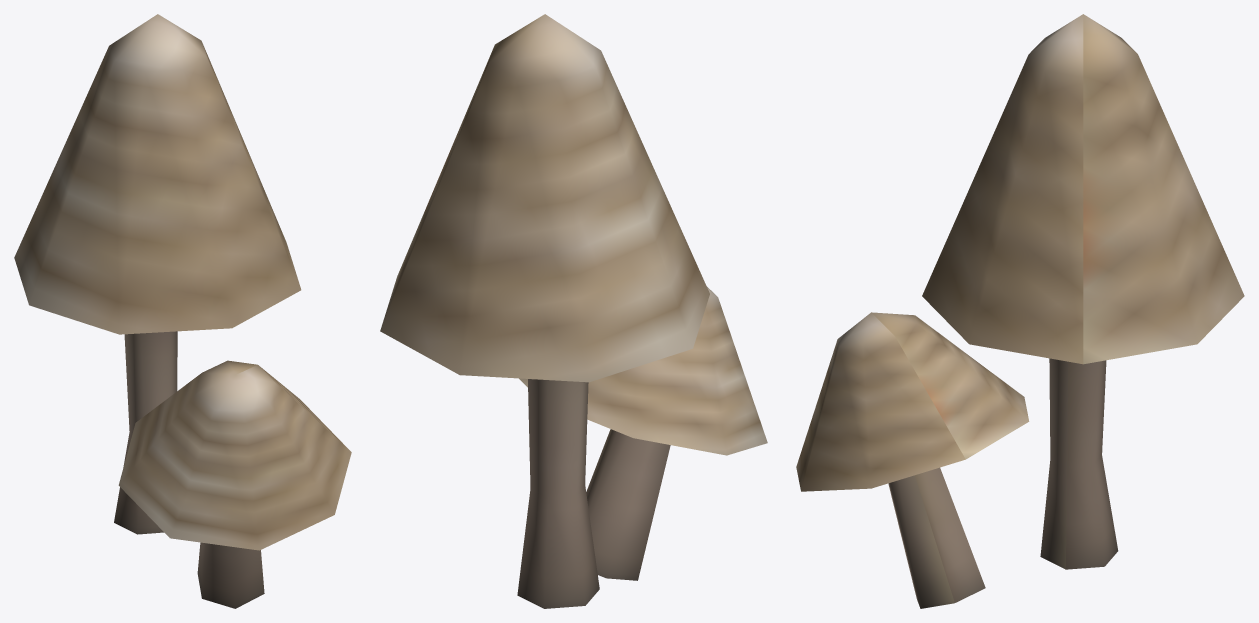
File: Mushroom1.fbx
3 views of the same model, side by side, from view 1: azimuth 30°, elevation 25°; view 2: azimuth 150°, elevation 25°; view 3: azimuth 270°, elevation 25° (orthographic). The views are drawn at different scales.
Parts seen in each view (by area): view 1: Mushroom1; view 2: Mushroom1; view 3: Mushroom1.
Part boxes in pixels (bbox=[...]): Mushroom1: bbox=[14, 14, 351, 608]; Mushroom1: bbox=[380, 14, 767, 608]; Mushroom1: bbox=[796, 14, 1244, 608].
Size of the model in its own units: 45.31 by 90.64 by 62.96.
1 material, 1 textured.
